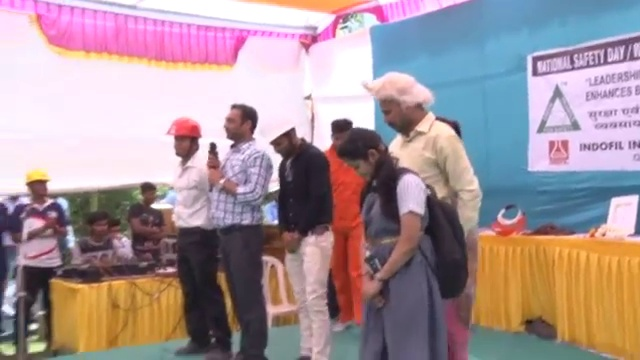helmet: (161, 114, 203, 140), (268, 117, 300, 145), (20, 165, 55, 187)
helmet_off: (369, 73, 436, 134), (325, 121, 382, 179), (218, 105, 259, 148), (329, 120, 355, 152), (88, 213, 113, 239), (135, 183, 156, 208), (107, 218, 125, 240)
helmet_on: (160, 115, 204, 161), (19, 167, 56, 208), (270, 117, 300, 158)
person: (369, 68, 483, 360), (325, 124, 468, 355), (199, 102, 275, 359), (161, 112, 233, 357), (270, 111, 335, 360), (10, 169, 78, 355), (324, 116, 368, 336), (70, 210, 152, 275), (126, 181, 167, 271)
